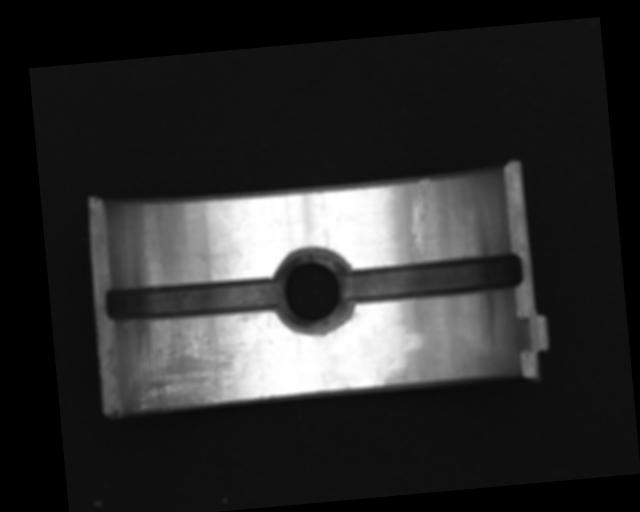gap: (343, 247, 524, 306), (102, 272, 278, 326)
hole: (270, 247, 358, 337)
nick: (404, 177, 437, 256)
scratch: (121, 313, 251, 415)
